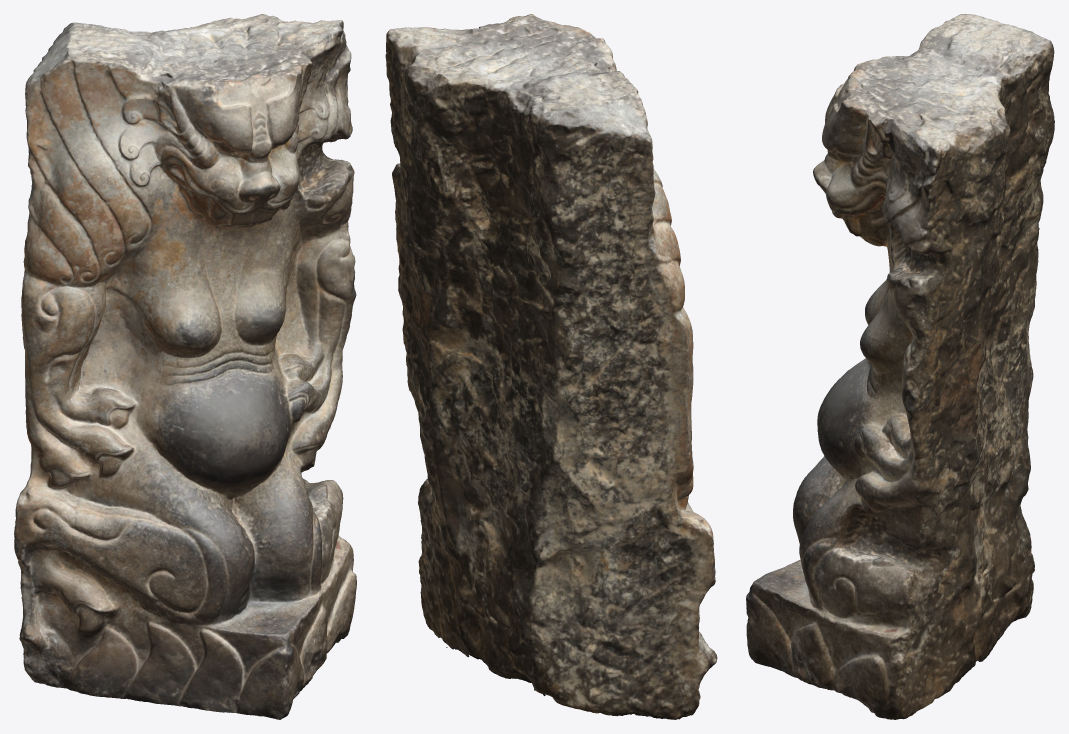
The model's file is winged-monster.glb.
3 views of the same model, side by side, from view 1: azimuth 30°, elevation 25°; view 2: azimuth 150°, elevation 25°; view 3: azimuth 270°, elevation 25° (orthographic). The views are drawn at different scales.
Bounding box in the file's own units: 492 × 869 × 407.
1 material, 1 textured.
